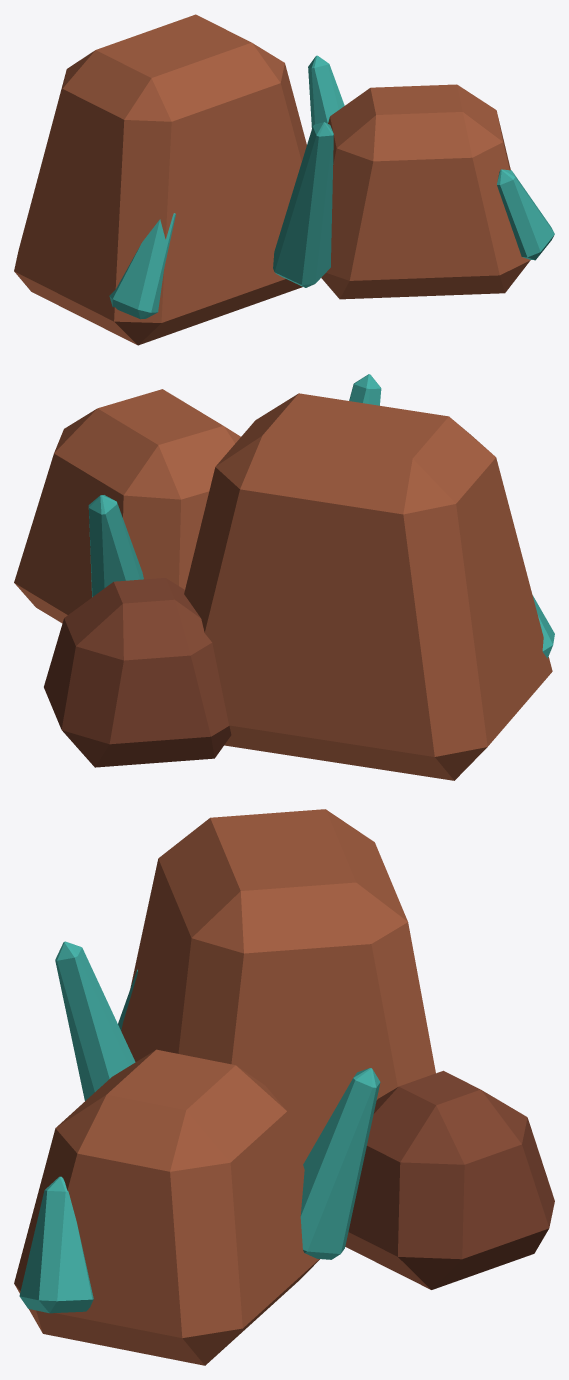
Rendered from ab_ore_outcrop_a.glb.
The picture shows the model from 3 angles, top to bottom: view 1: azimuth 30°, elevation 25°; view 2: azimuth 150°, elevation 25°; view 3: azimuth 270°, elevation 25°; orthographic projection. The views are drawn at different scales.
Parts seen in each view (by area): view 1: ab_ore_outcrop_a; view 2: ab_ore_outcrop_a; view 3: ab_ore_outcrop_a.
Boxes of the visible parts, box(x1,y1,x2,y2) form: ab_ore_outcrop_a: box(14, 14, 554, 345); ab_ore_outcrop_a: box(14, 374, 554, 780); ab_ore_outcrop_a: box(14, 809, 554, 1365).
Size of the model in its own units: 1.54 by 0.8 by 1.21.
